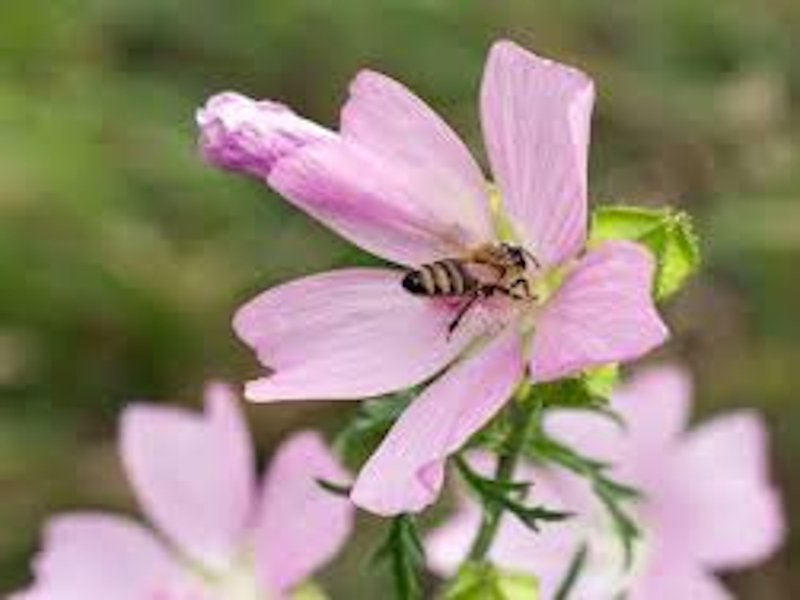abeja: (387, 220, 547, 347)
